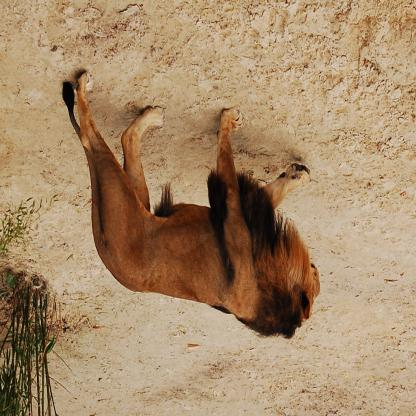lion: (252, 213, 330, 347)
